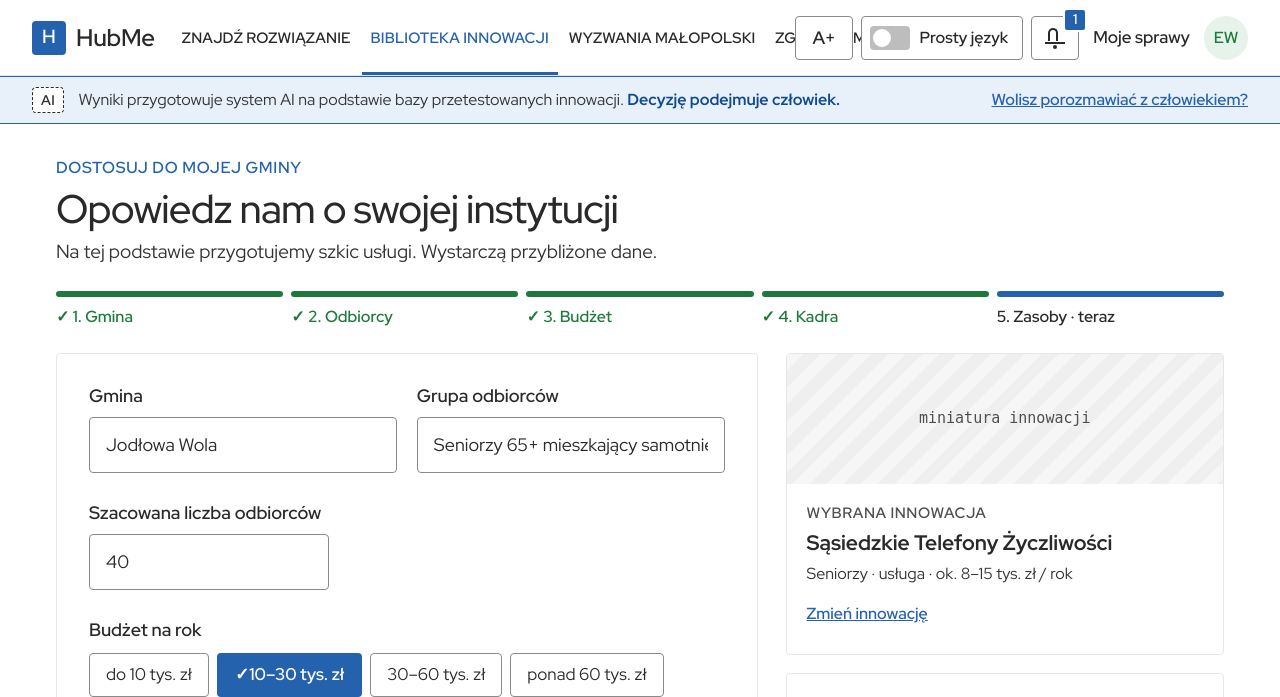
Test case: adaptation › rejects a recipient count that is not a number
This screenshot has width=1280, height=697.
Replace the text in the field labelled "Szacowana liczba odbiorców" with "około czterdziestu": (209, 562) [89,534,329,590]
(page scrolled)
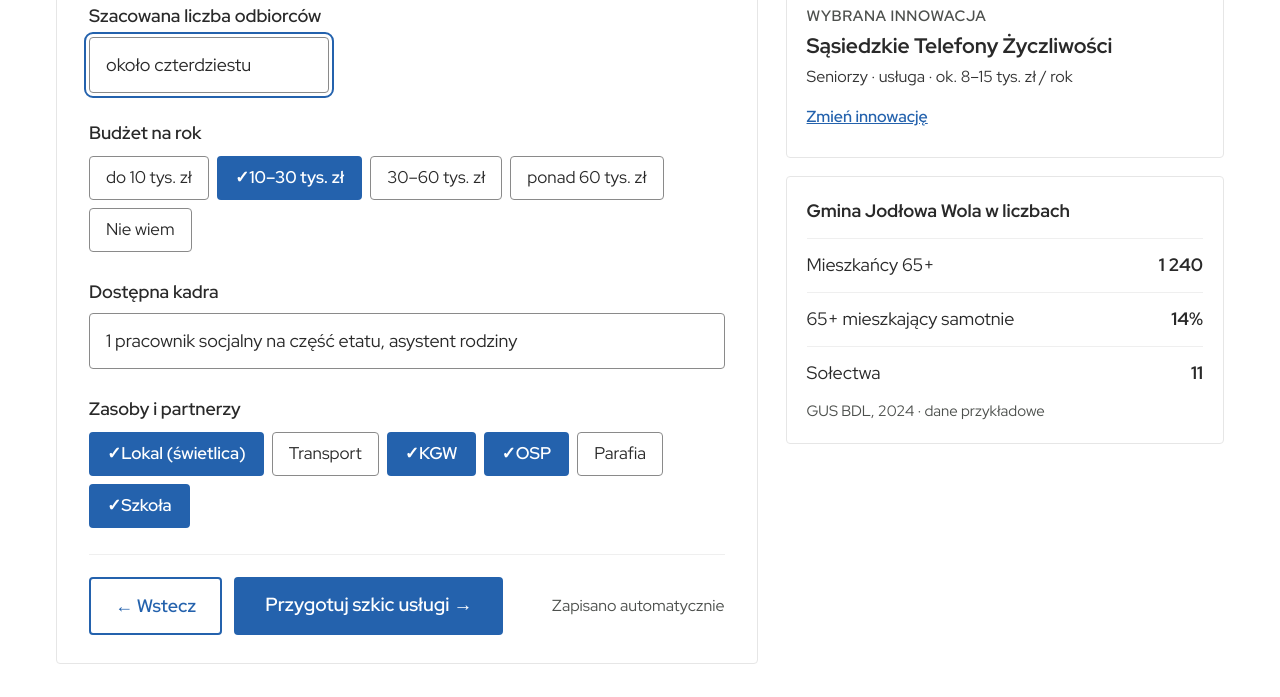
Click the button "Przygotuj szkic usługi →": (369, 606) [234,576,503,634]
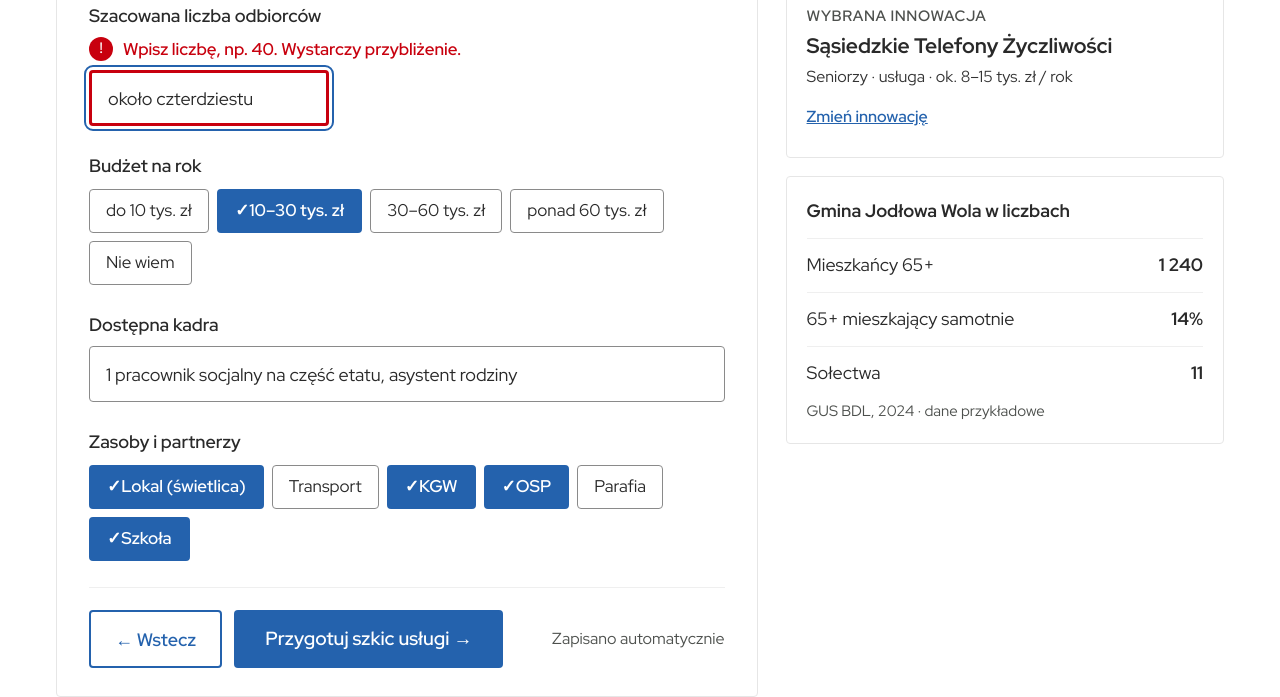
Now the message shows "Wpisz liczbę, np. 40. Wystarczy przybliżenie.", box [123,38,461,60]
